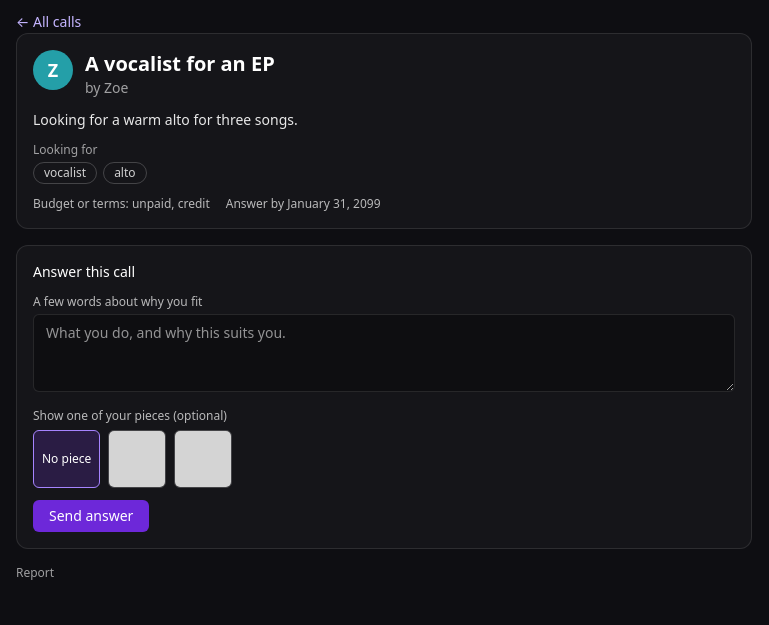
it: CallPage: someone else's call › asks for words or a piece, and says why a send failed
Click the button "Send answer".
click(91, 516)  # box [33, 500, 149, 532]
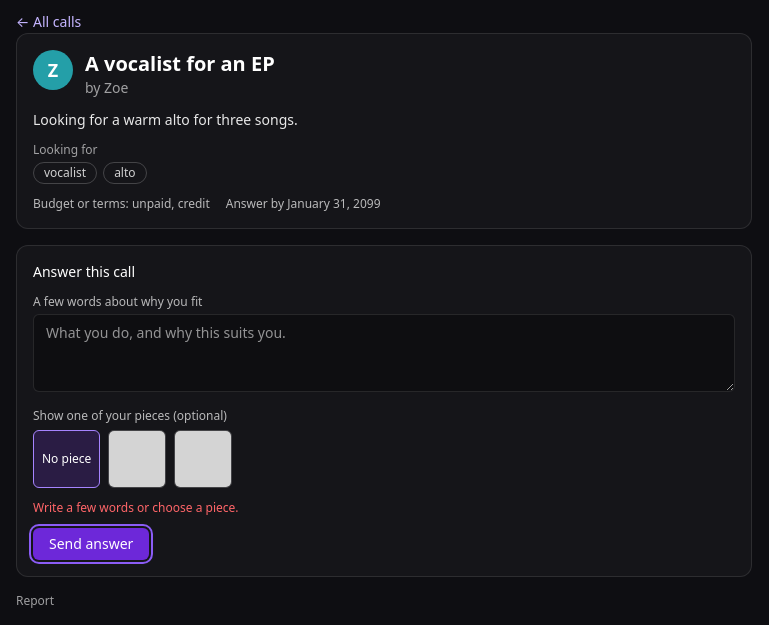
Result: the message reads "Write a few words or choose a piece." at [33, 499, 238, 516]
Type "hello" into the text box labelled "A few words about why you fit".
click(384, 353); type("hello")  # box [33, 314, 735, 392]
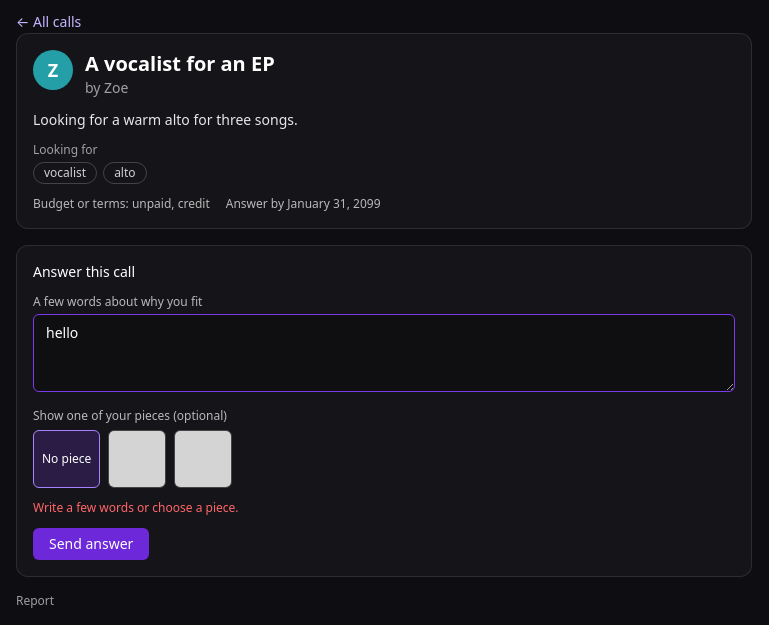
Click the button "Send answer".
click(91, 544)  # box [33, 528, 149, 560]
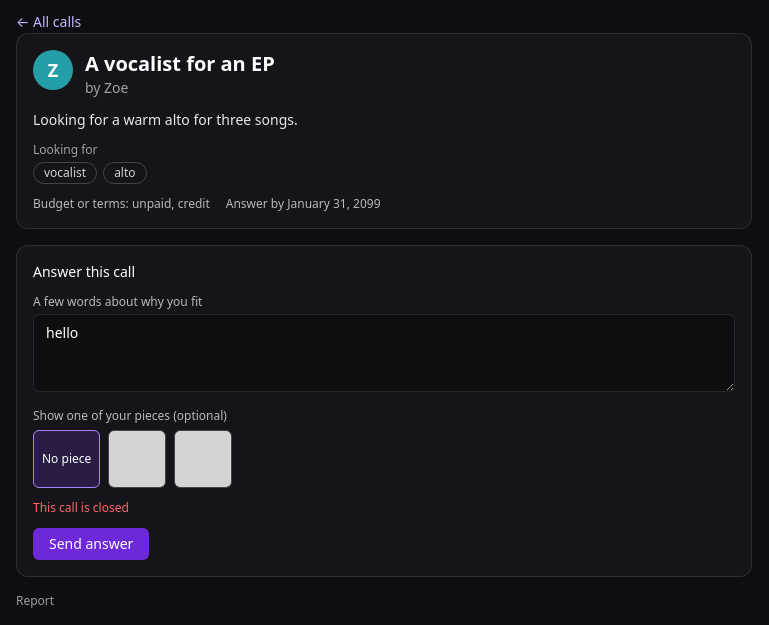
Result: the message reads "This call is closed" at [33, 499, 129, 516]
